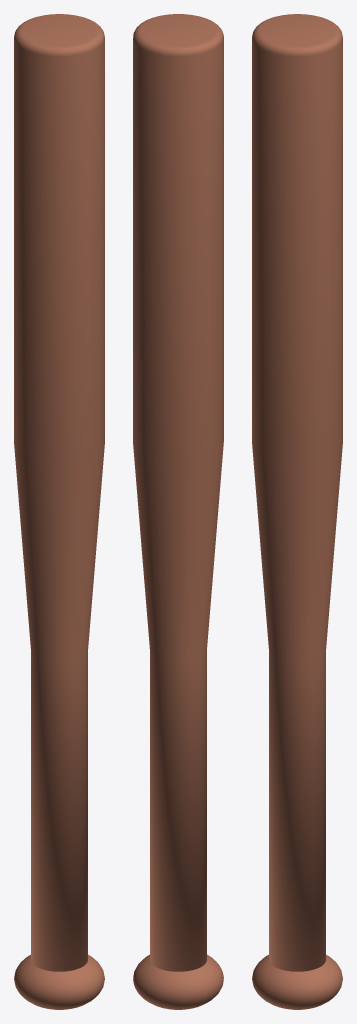
File: yakyuubatto.glb
3 renders of one model, left to right at view 1: azimuth 90°, elevation 25°; view 2: azimuth 150°, elevation 25°; view 3: azimuth 270°, elevation 25°, orthographic.
Visible parts, largest first — view 1: 円柱, 球; view 2: 円柱, 球; view 3: 円柱, 球.
Boxes of the visible parts, x1,y1,x2,y2 form: 円柱: [14, 14, 104, 971]; 球: [14, 955, 104, 1009]; 円柱: [133, 14, 223, 971]; 球: [133, 954, 223, 1009]; 円柱: [252, 14, 342, 971]; 球: [252, 955, 342, 1009].
Size of the model in its own units: 2 by 23.6 by 2.
